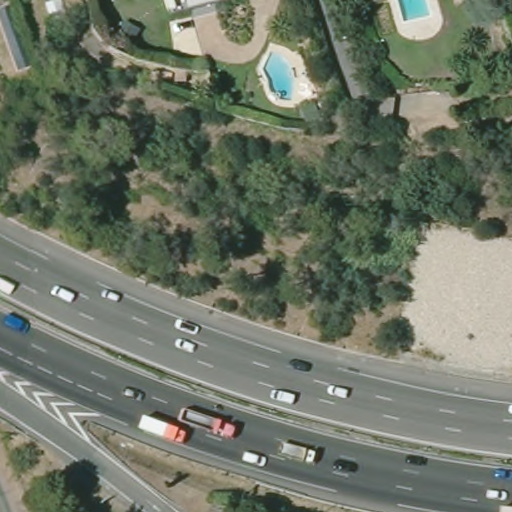pool: (259, 47, 309, 109), (388, 1, 442, 31)
